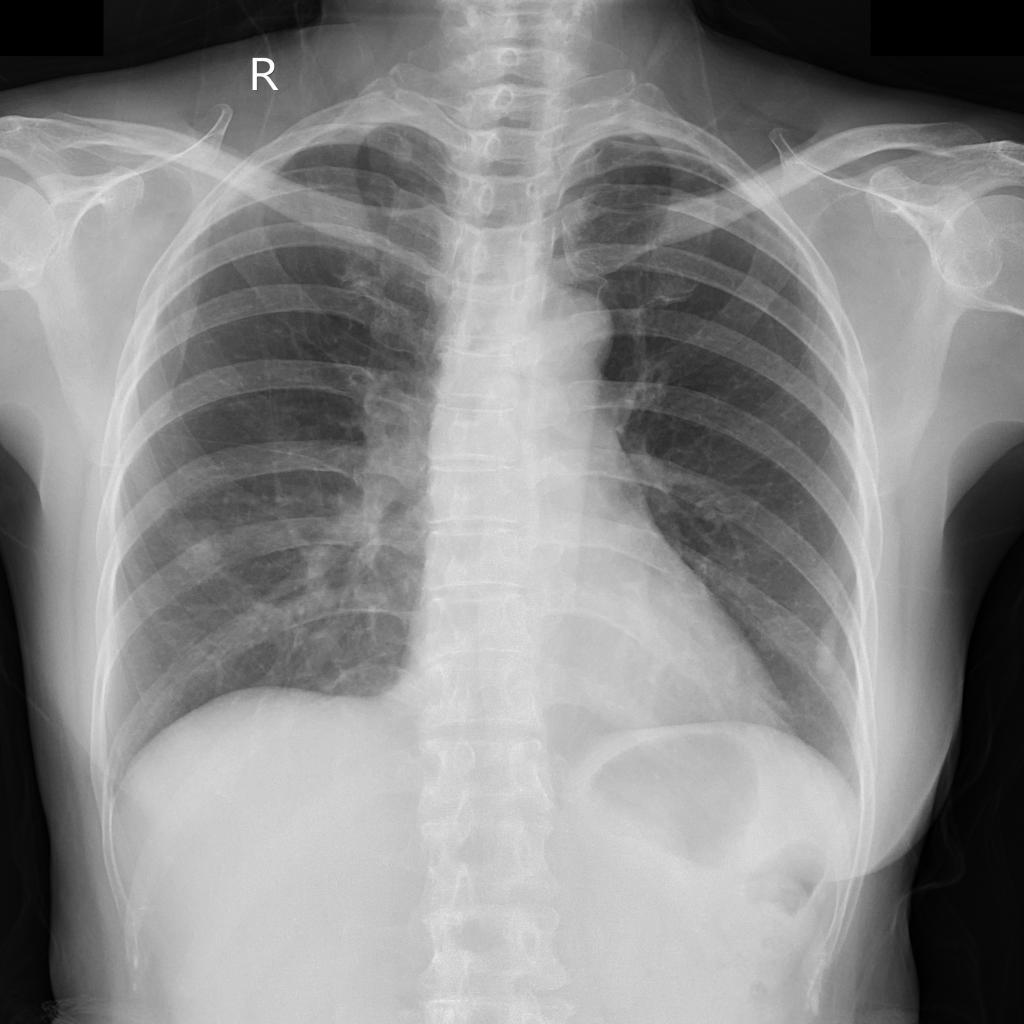Nodule: (171, 520, 224, 576)
